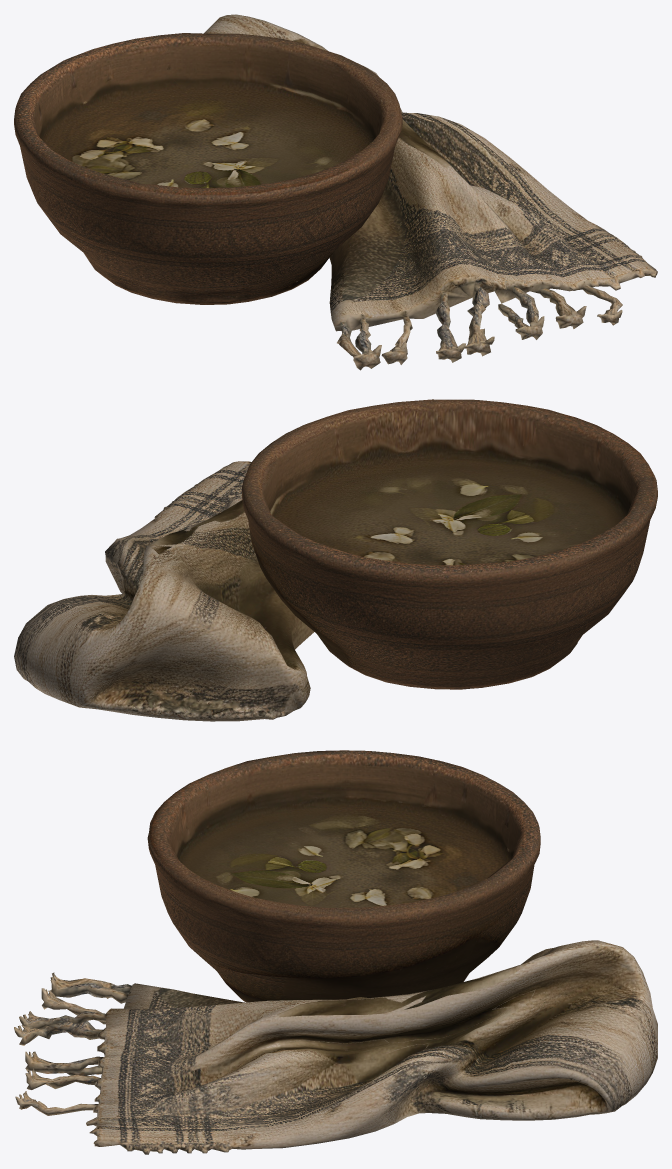
The model's file is gilimanuk.glb.
3 views of the same model, one above another, from view 1: azimuth 30°, elevation 25°; view 2: azimuth 150°, elevation 25°; view 3: azimuth 270°, elevation 25° (orthographic). The views are drawn at different scales.
Parts seen in each view (by area): view 1: tripo_node_201f7974-e9cc-4ae4-979f-94e37eb27426; view 2: tripo_node_201f7974-e9cc-4ae4-979f-94e37eb27426; view 3: tripo_node_201f7974-e9cc-4ae4-979f-94e37eb27426.
Boxes of the visible parts, <box> form: tripo_node_201f7974-e9cc-4ae4-979f-94e37eb27426: <box>14,14,657,370</box>; tripo_node_201f7974-e9cc-4ae4-979f-94e37eb27426: <box>14,399,657,721</box>; tripo_node_201f7974-e9cc-4ae4-979f-94e37eb27426: <box>14,750,657,1154</box>.
Size of the model in its own units: 0.9121 by 0.2715 by 0.998.
Materials: 1 (1 with a texture image).
